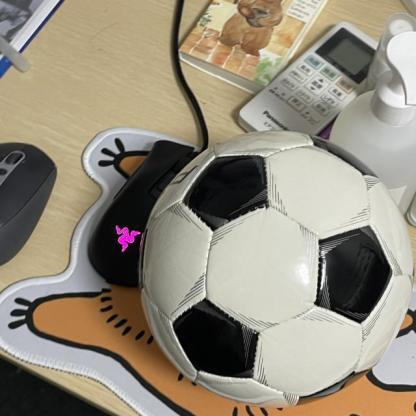ball: (137, 130, 415, 411)
